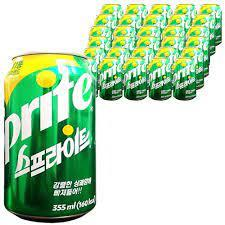sprite: (6, 49, 99, 224), (170, 58, 204, 104), (146, 56, 174, 104), (97, 57, 124, 102), (124, 57, 147, 102)
